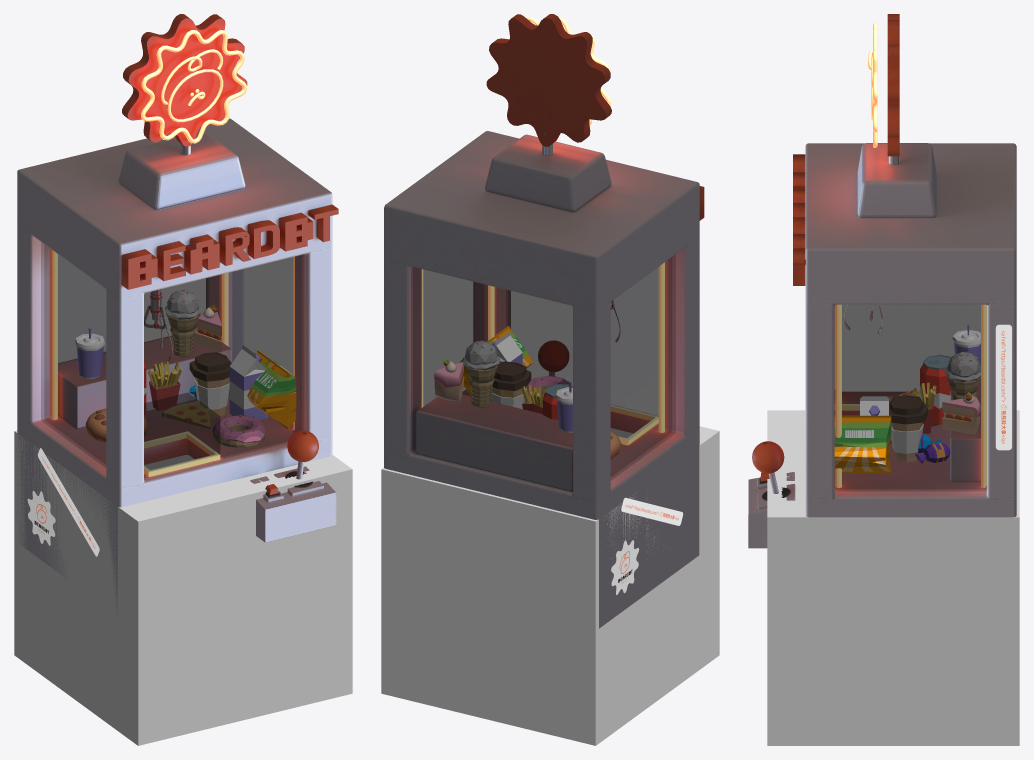
The model's file is claw.glb.
3 views of the same model, side by side, from view 1: azimuth 30°, elevation 25°; view 2: azimuth 150°, elevation 25°; view 3: azimuth 270°, elevation 25° (orthographic).
Parts seen in each view (by area): view 1: Backed, Cube.001, food.008, Cube.012, Cube.014, 擋版, Cube.015, group478861069, Curve.002, food.007, food.005, IceCream_3 (+12 smaller); view 2: Backed, Cube.001, Cube.015, Cube.012, food.008, Cube.014, 擋版, IceCream_3, food.007, Cylinder.004, cake_strawberry_slice, Plane.008 (+3 smaller); view 3: Cube.001, Backed, Cube.014, Cube.012, group478861069, Plane.001, food.007, 擋版, food.013, IceCream_3, cake_strawberry_slice, Cylinder.002 (+6 smaller).
Boxes of the visible parts, <box> form: Backed: <box>17,14,338,615</box>; Cube.001: <box>14,430,352,745</box>; food.008: <box>144,255,303,477</box>; Cube.012: <box>41,242,105,467</box>; Cube.014: <box>232,257,292,373</box>; 擋版: <box>144,393,219,471</box>; Cube.015: <box>58,255,207,362</box>; group478861069: <box>247,350,296,428</box>; Curve.002: <box>141,30,246,143</box>; food.007: <box>189,352,231,417</box>; food.005: <box>229,345,268,419</box>; IceCream_3: <box>165,290,201,357</box>; Backed: <box>384,14,704,628</box>; Cube.001: <box>381,426,719,745</box>; Cube.015: <box>411,267,572,491</box>; Cube.012: <box>611,255,675,479</box>; food.008: <box>508,267,658,379</box>; Cube.014: <box>423,270,484,405</box>; 擋版: <box>558,373,655,438</box>; IceCream_3: <box>462,340,499,407</box>; food.007: <box>491,361,531,408</box>; Cylinder.004: <box>658,262,664,432</box>; cake_strawberry_slice: <box>434,358,463,401</box>; Plane.008: <box>611,540,639,594</box>; Cube.001: <box>767,410,1019,745</box>; Backed: <box>748,14,1016,548</box>; Cube.014: <box>835,305,986,490</box>; Cube.012: <box>842,305,980,395</box>; group478861069: <box>834,415,891,473</box>; Plane.001: <box>995,324,1012,450</box>; food.007: <box>889,395,927,462</box>; 擋版: <box>842,365,881,415</box>; food.013: <box>920,354,950,424</box>; IceCream_3: <box>945,352,980,399</box>; cake_strawberry_slice: <box>942,392,980,434</box>; Cylinder.002: <box>981,304,987,487</box>.
Size of the model in its own units: 2.02 by 5.87 by 2.15.
46 materials, 6 textured.
